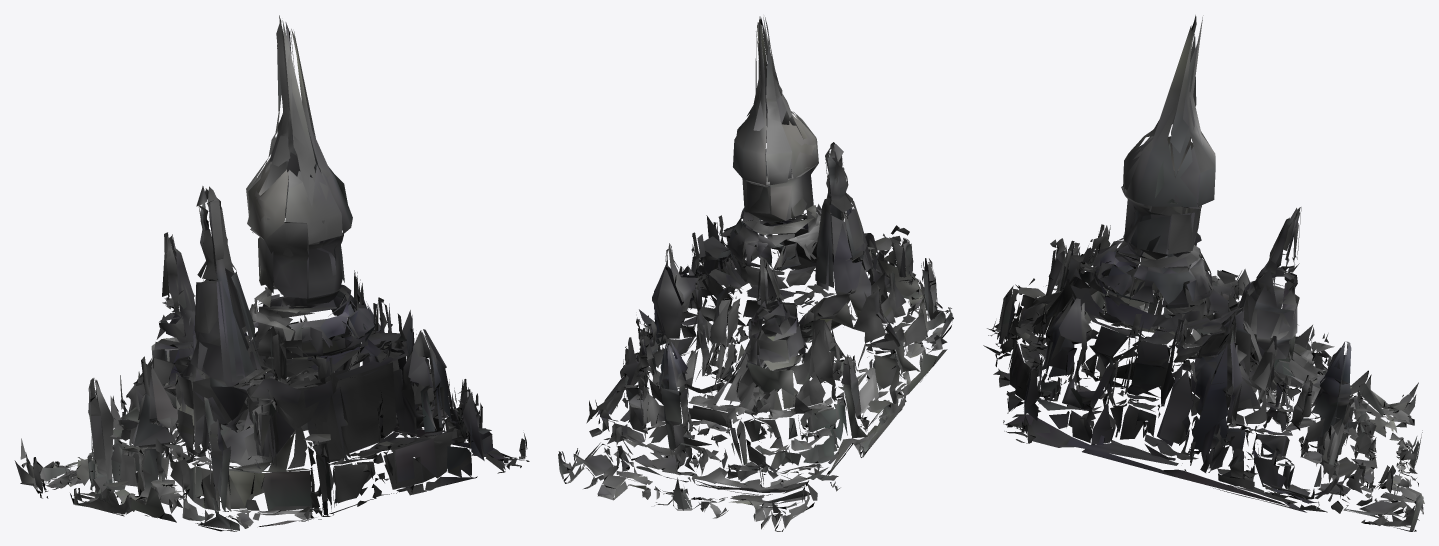
Rendered from ordmantell-palace.lo.glb.
The picture shows the model from 3 angles, left to right: view 1: azimuth 30°, elevation 25°; view 2: azimuth 150°, elevation 25°; view 3: azimuth 270°, elevation 25°; orthographic projection. The views are drawn at different scales.
Visible parts, largest first — view 1: low; view 2: low; view 3: low.
Part boxes in pixels (x1=…): low: x1=14, y1=15, x2=529, y2=531; low: x1=558, y1=16, x2=953, y2=531; low: x1=983, y1=15, x2=1424, y2=531.
Size of the model in its own units: 0.5775 by 0.9022 by 0.7753.
Materials: 1 (1 with a texture image).
